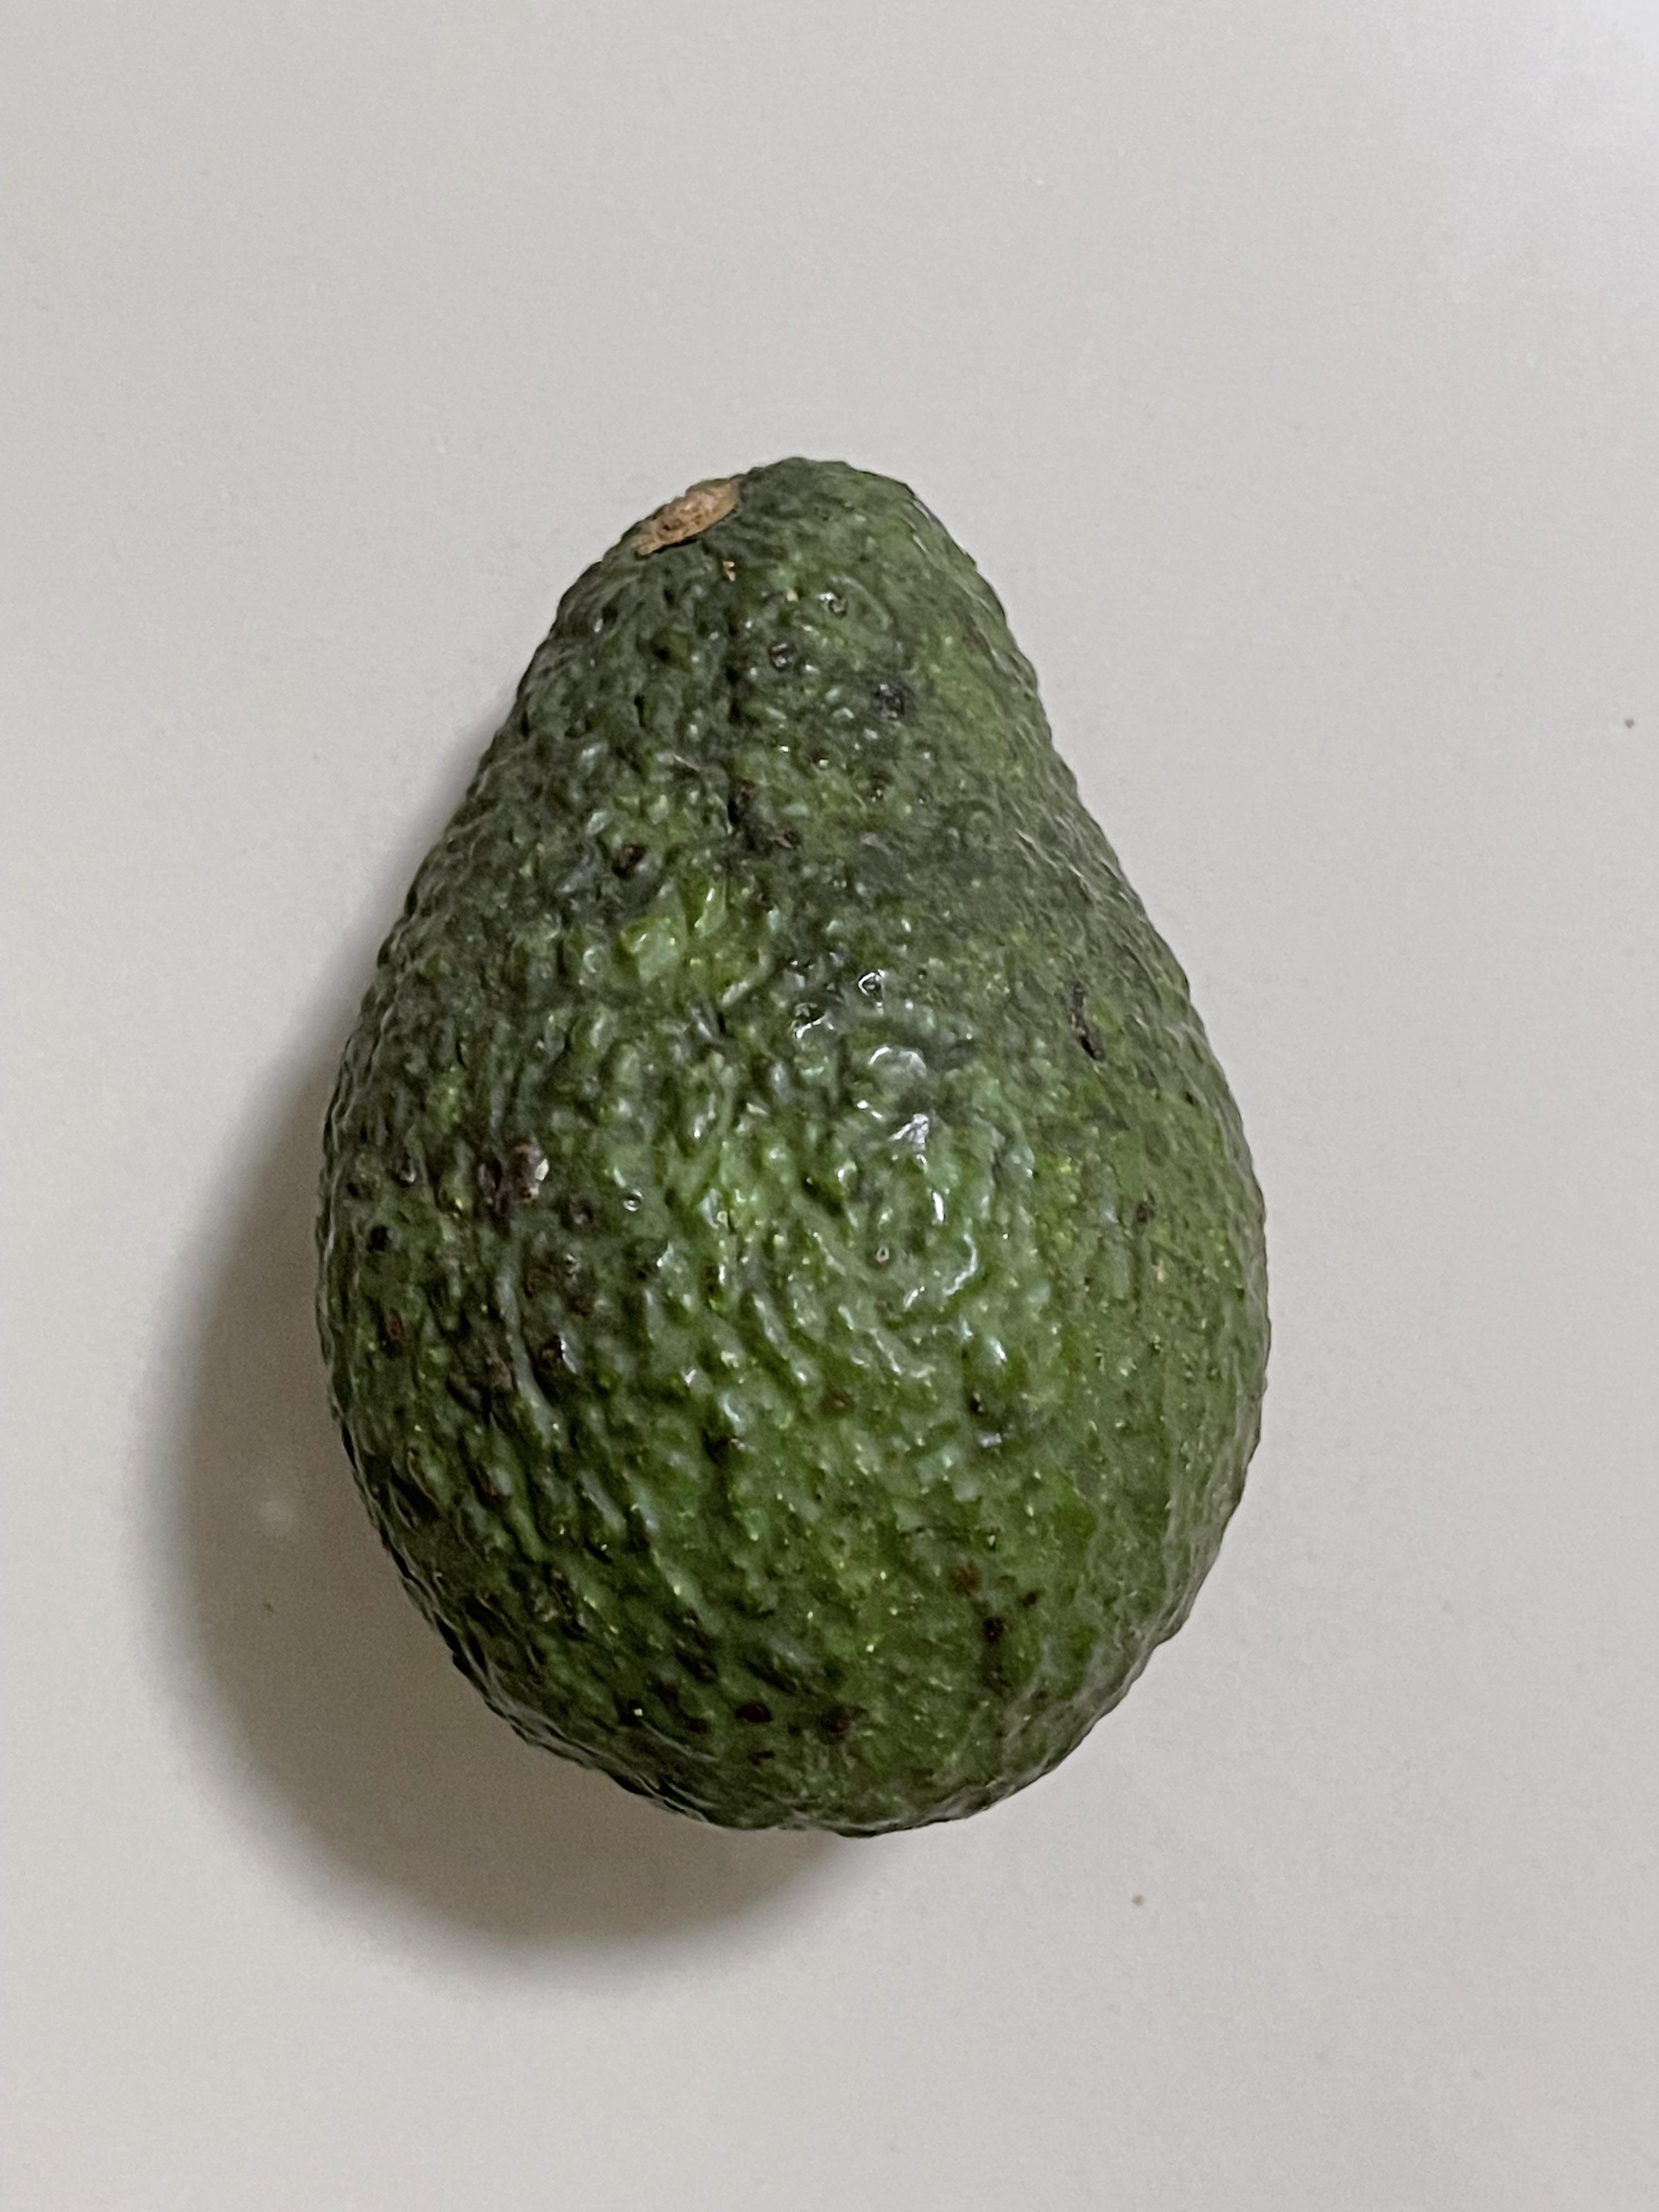Level1: (281, 401, 1312, 1886)
